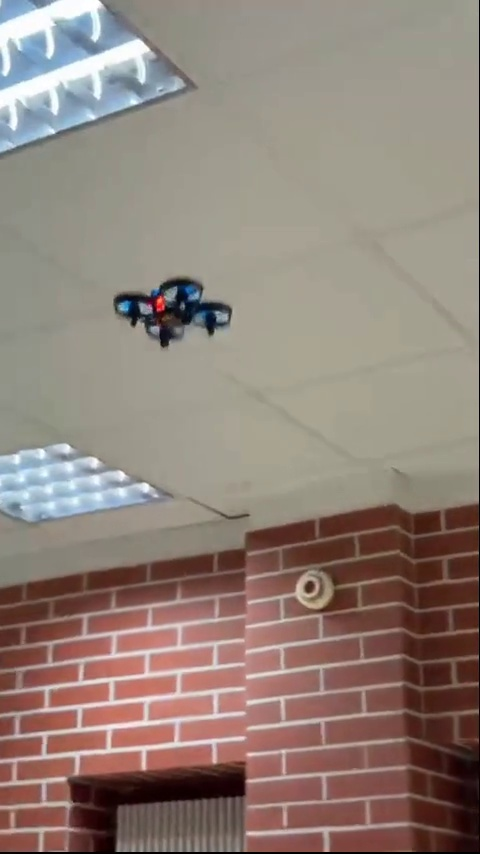drone: (116, 279, 234, 348)
